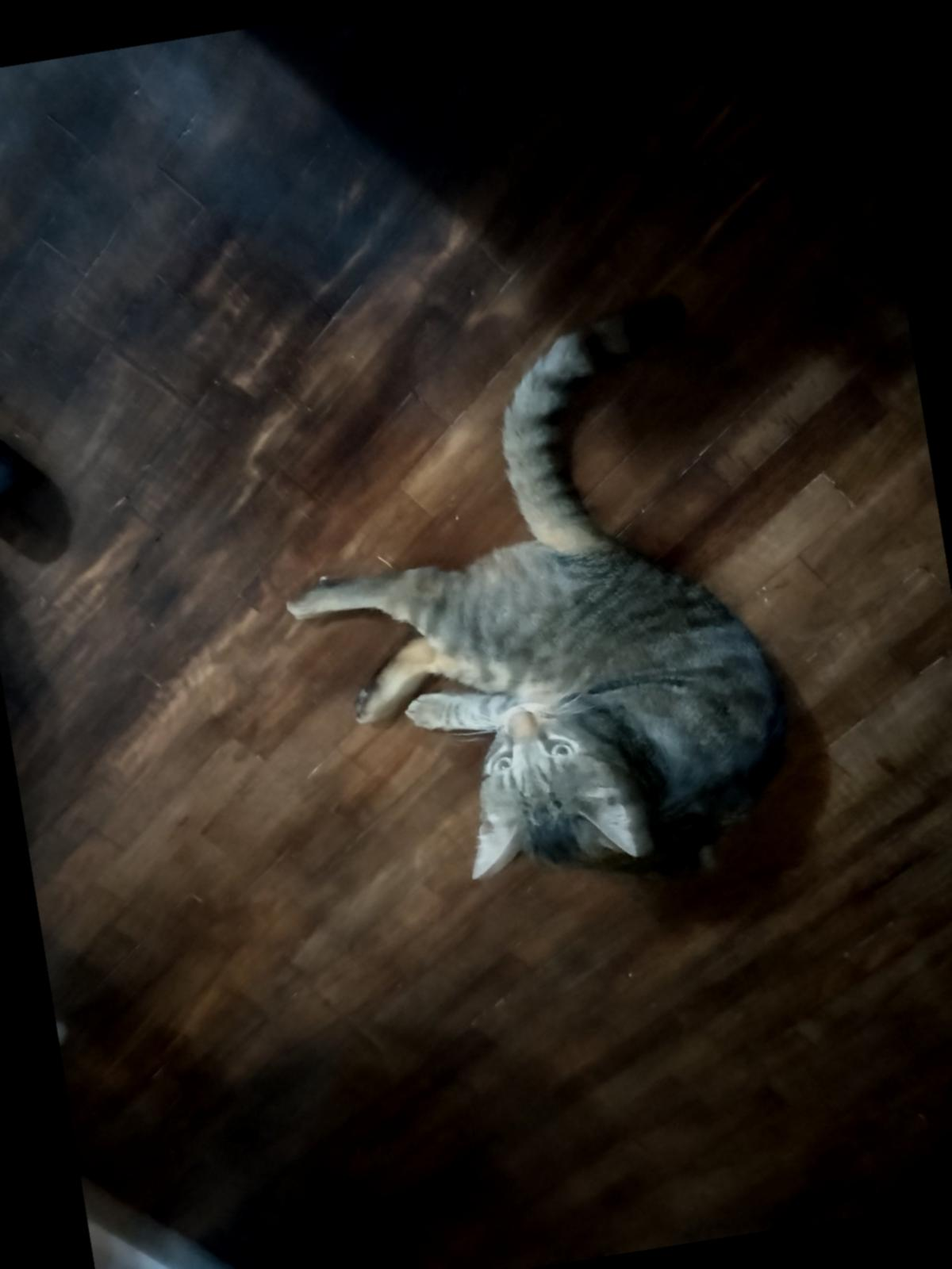macka: (248, 291, 803, 930)
